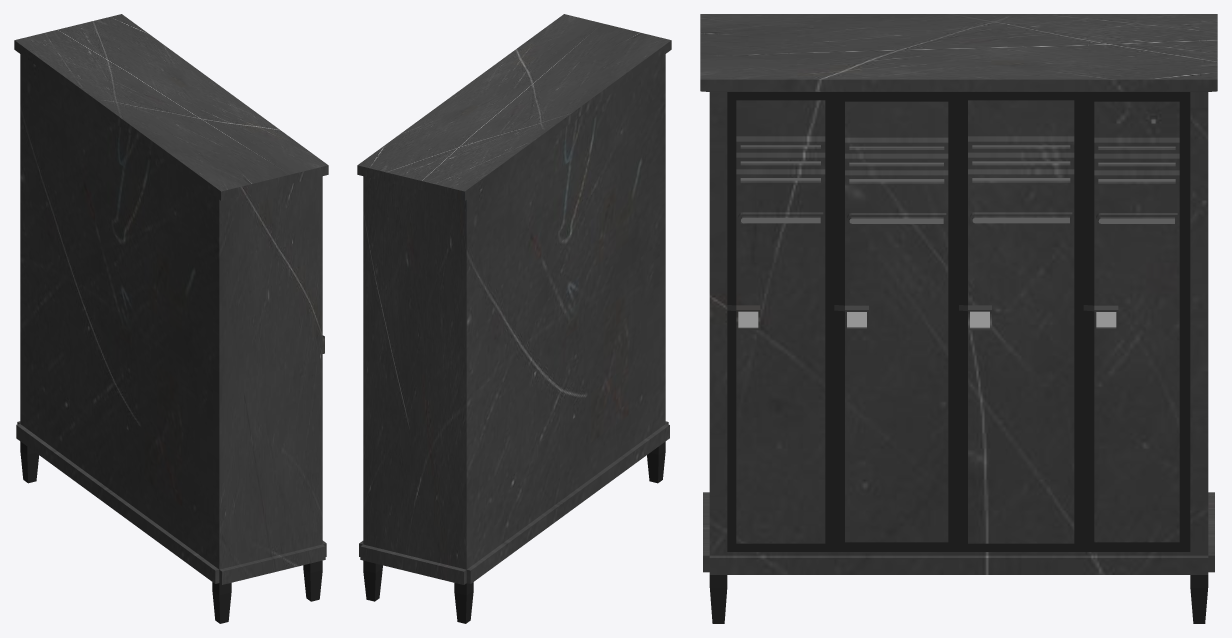
Rendered from casilleros.fbx.
3 renders of one model, left to right at view 1: azimuth 30°, elevation 25°; view 2: azimuth 150°, elevation 25°; view 3: azimuth 270°, elevation 25°, orthographic. The views are drawn at different scales.
Visible parts, largest first — view 1: Cube; view 2: Cube; view 3: Cube.
Boxes of the visible parts, x1,y1,x2,y2 form: Cube: (14,14,328,623); Cube: (357,14,671,623); Cube: (700,14,1217,623).
Size of the model in its own units: 56.28 by 201 by 172.
4 materials, 1 textured.
